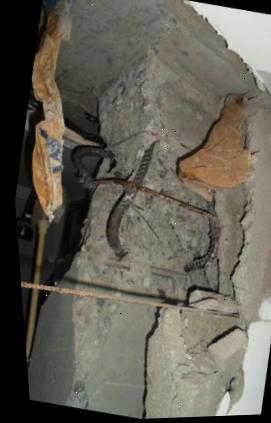exposed_rebar: (72, 140, 219, 271)
spalling: (65, 88, 222, 409)
